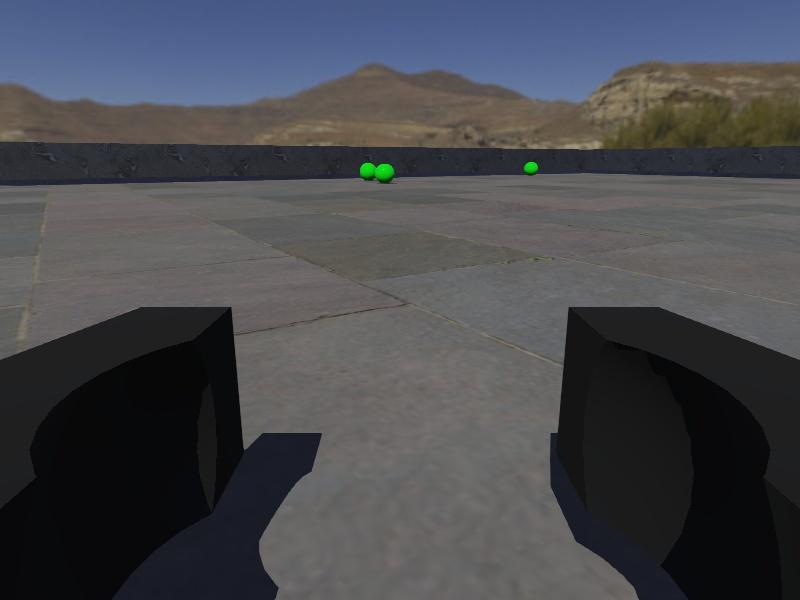green ball: (375, 162, 395, 185), (523, 160, 540, 176)
